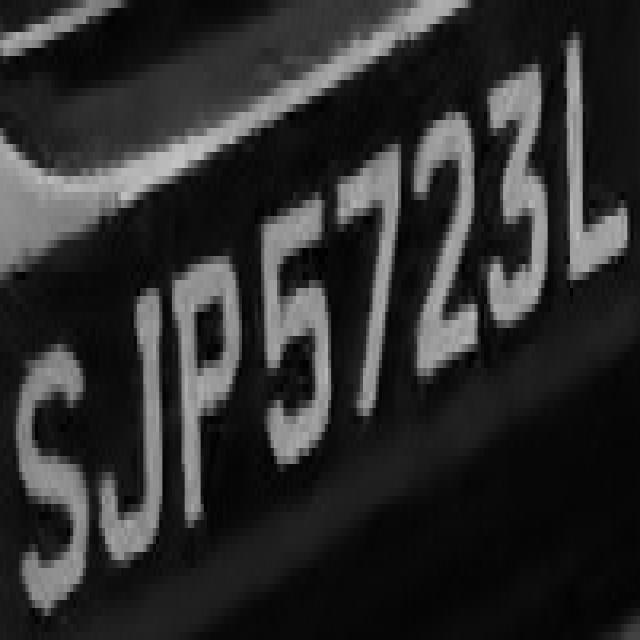2: (408, 96, 487, 408)
3: (471, 56, 554, 360)
5: (252, 168, 341, 488)
7: (328, 136, 411, 464)
J: (89, 256, 166, 576)
L: (554, 0, 630, 280)
P: (165, 240, 248, 560)
S: (12, 320, 96, 632)
